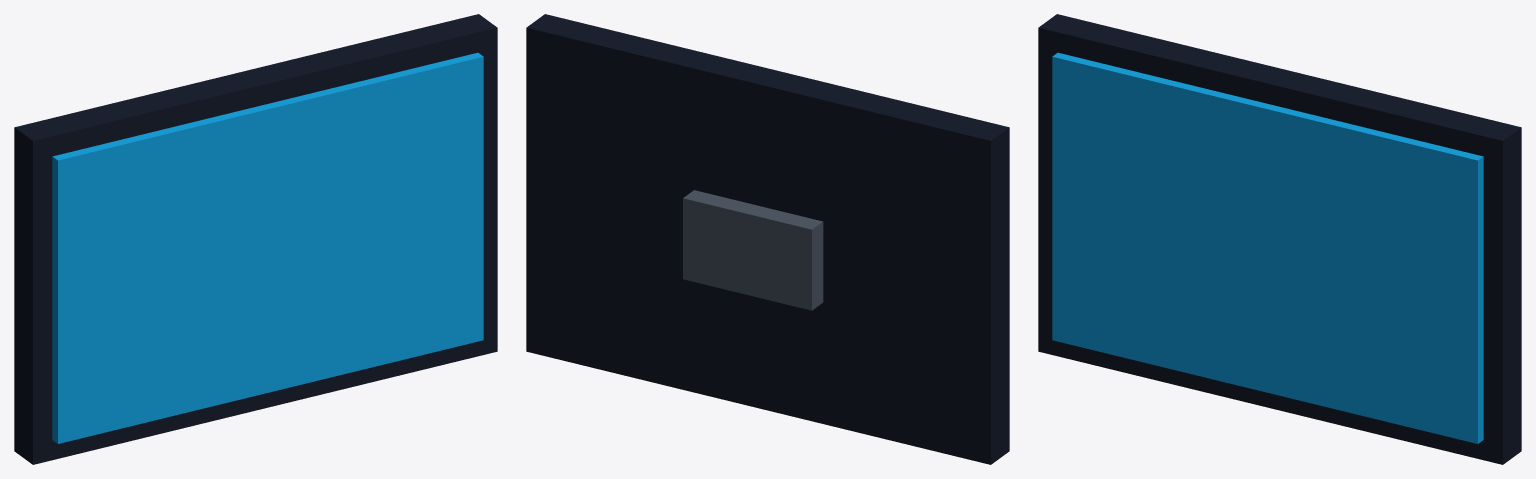
Rendered from parametric-source.glb.
The picture shows the model from 3 angles, left to right: view 1: azimuth 30°, elevation 25°; view 2: azimuth 150°, elevation 25°; view 3: azimuth 330°, elevation 25°; orthographic projection.
Visible parts, largest first — view 1: openclinxr.equipment.ehr_screen_equipment.display, openclinxr.equipment.ehr_screen_equipment.bezel; view 2: openclinxr.equipment.ehr_screen_equipment.bezel, openclinxr.equipment.ehr_screen_equipment.wall_mount; view 3: openclinxr.equipment.ehr_screen_equipment.display, openclinxr.equipment.ehr_screen_equipment.bezel.
Boxes of the visible parts, x1,y1,x2,y2 form: openclinxr.equipment.ehr_screen_equipment.display: (52,52,483,443); openclinxr.equipment.ehr_screen_equipment.bezel: (14,14,497,464); openclinxr.equipment.ehr_screen_equipment.bezel: (526,14,1009,464); openclinxr.equipment.ehr_screen_equipment.wall_mount: (683,190,823,310); openclinxr.equipment.ehr_screen_equipment.display: (1052,52,1483,443); openclinxr.equipment.ehr_screen_equipment.bezel: (1038,14,1521,464).
Bounding box in the file's own units: 0.72 × 0.48 × 0.095.
